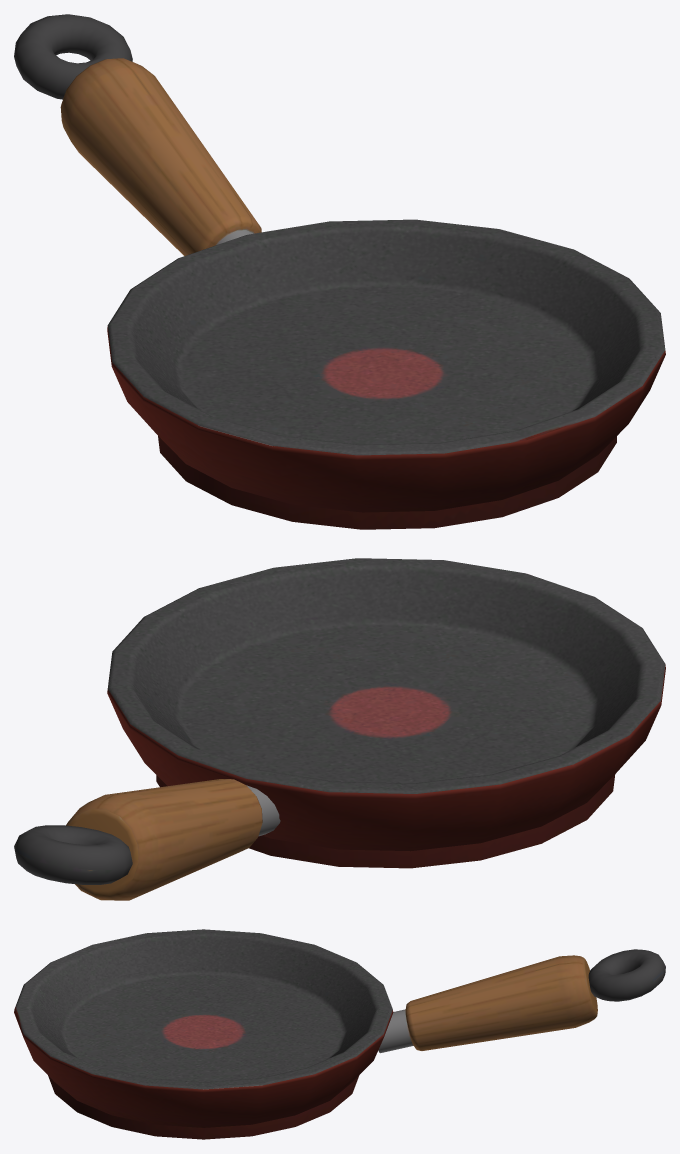
Rendered from FryingPan.fbx.
The picture shows the model from 3 angles, top to bottom: view 1: azimuth 30°, elevation 25°; view 2: azimuth 150°, elevation 25°; view 3: azimuth 270°, elevation 25°; orthographic projection. The views are drawn at different scales.
Parts seen in each view (by area): view 1: m_sk_fryingpan_01; view 2: m_sk_fryingpan_01; view 3: m_sk_fryingpan_01.
Boxes of the visible parts, box(x1,y1,x2,y2) form: m_sk_fryingpan_01: box(14, 14, 665, 529); m_sk_fryingpan_01: box(14, 558, 665, 900); m_sk_fryingpan_01: box(14, 929, 665, 1139).
Bounding box in the file's own units: 87.26 × 29.5 × 150.
